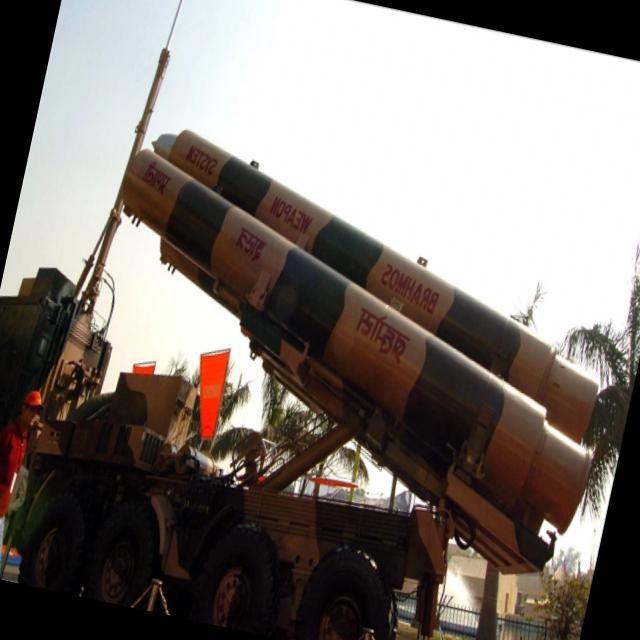rocket: (62, 105, 640, 575)
